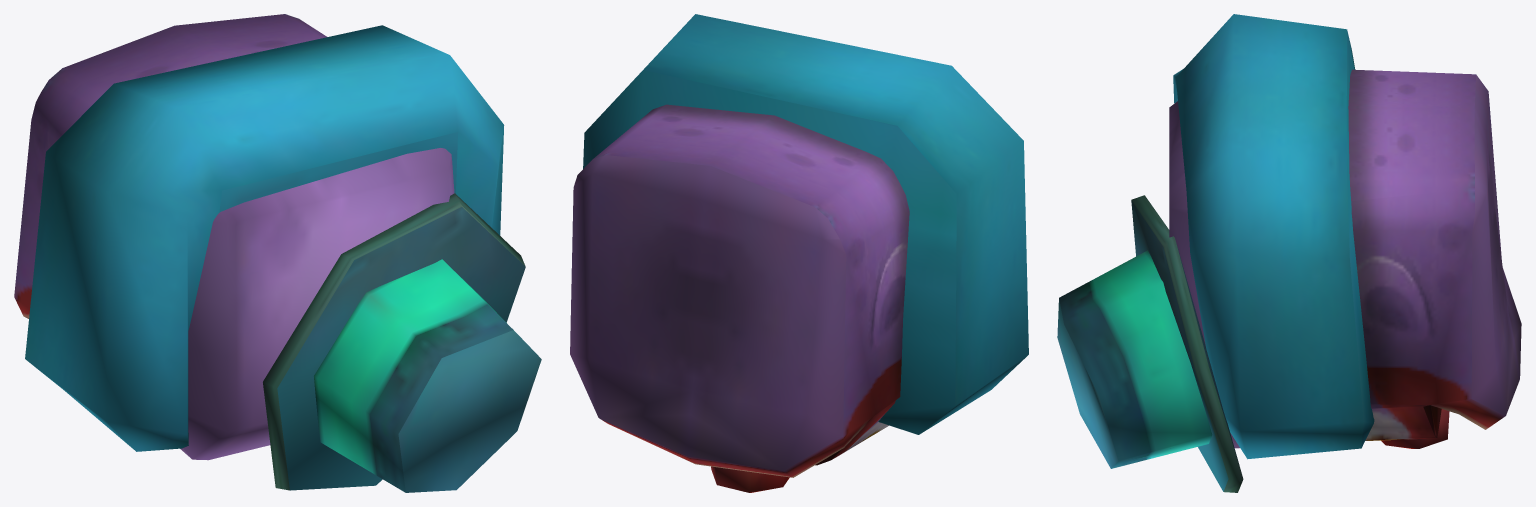
The model's file is Zombie_Clown_H_Head_dd12c023__Zombie_Clown_Purple_d1673b3b_c1f257.obj.
The picture shows the model from 3 angles, left to right: view 1: azimuth 30°, elevation 25°; view 2: azimuth 150°, elevation 25°; view 3: azimuth 270°, elevation 25°; orthographic projection. The views are drawn at different scales.
Size of the model in its own units: 0.9463 by 0.9351 by 1.
Materials: 1 (1 with a texture image).
